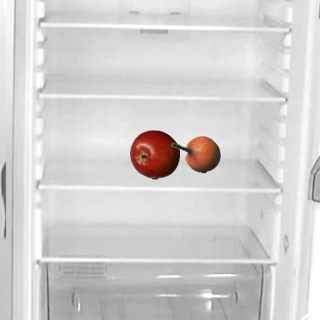Apple Braeburn: (129, 129, 179, 179)
Granadilla: (170, 129, 220, 179)
